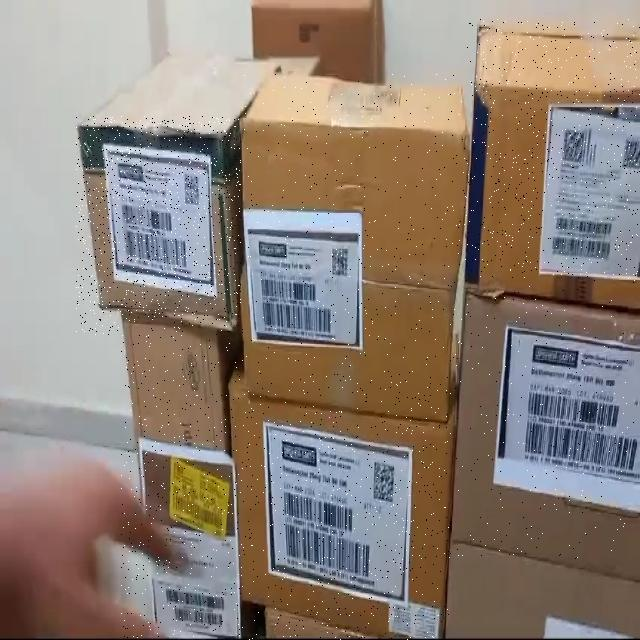BoxFace: (244, 74, 468, 399), (226, 374, 451, 640), (455, 279, 640, 559), (467, 18, 640, 296), (121, 320, 243, 638), (76, 116, 241, 335)
